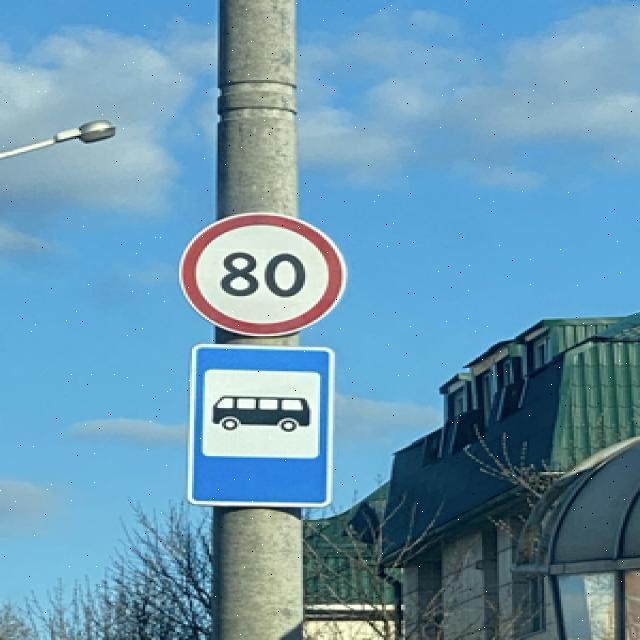speed limit 80: (175, 211, 346, 339)
